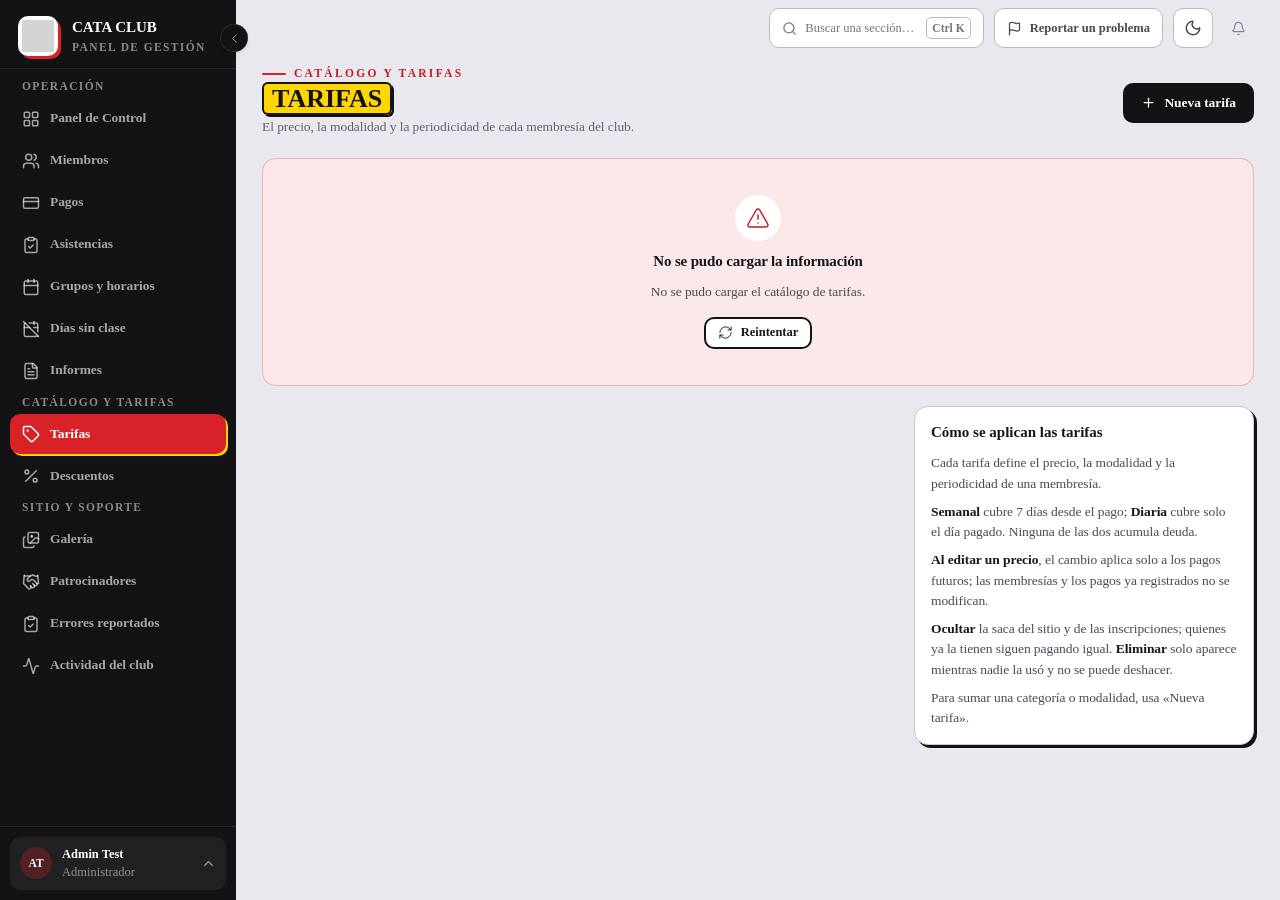
Scenario: TarifasPage — listado › shows an error state with retry when loading fails
Click the button "Reintentar".
click(758, 333)  # box [704,317,812,349]
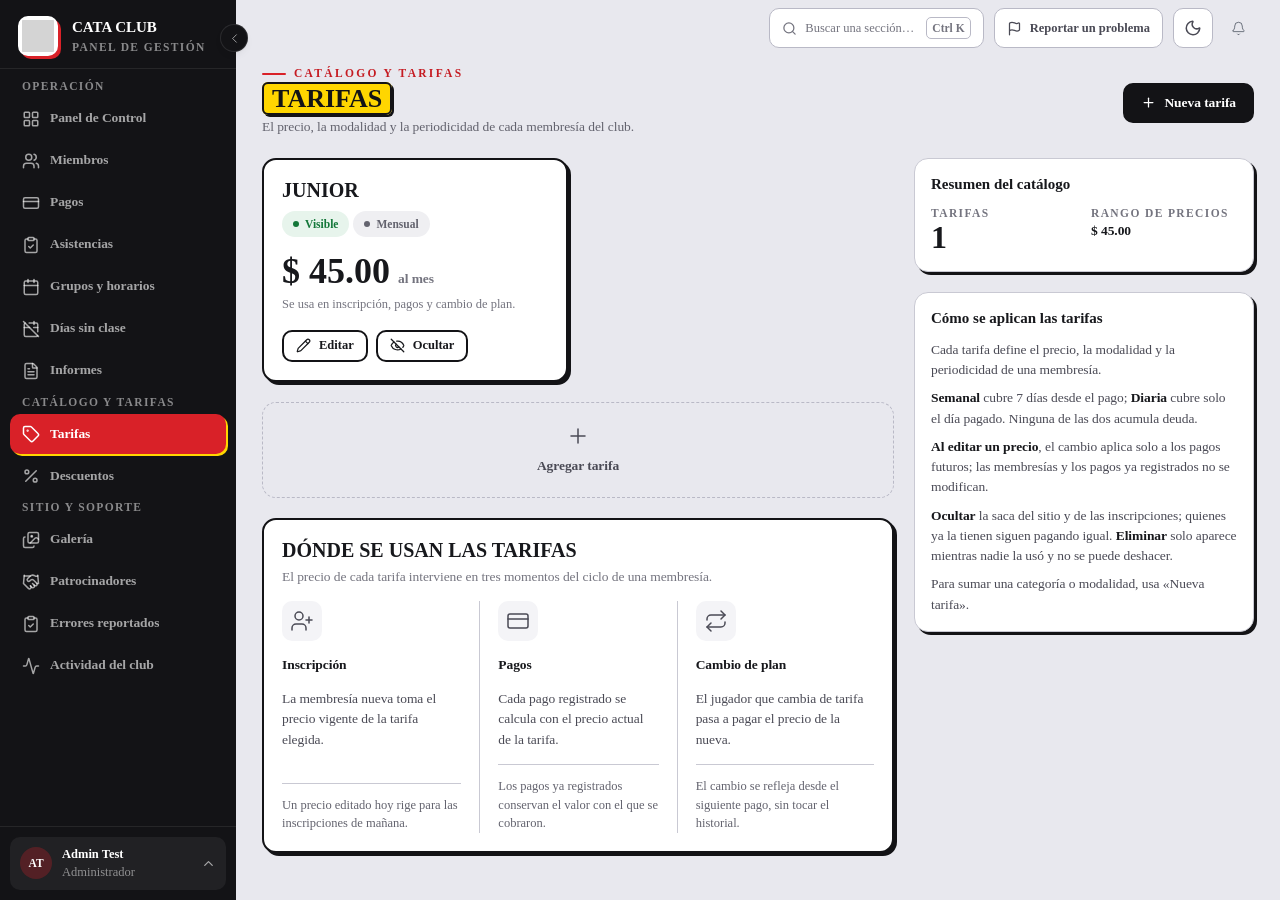
Expected: the heading "Junior" is shown, [282,179,359,201]
